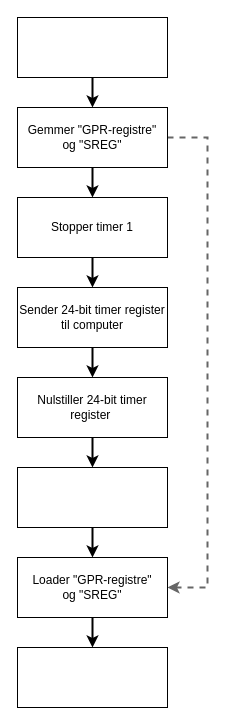
Some shapes in this 234 by 725 pixel diagram are drawn without their labels. Here are the shapes that lost their labels. From the top down, the centre of each, then its label:
At pixel 92 47: "Extern interrupt 2 (Målstreg)".
At pixel 92 497: "Starter timer 1".
At pixel 92 677: "Retunere".
